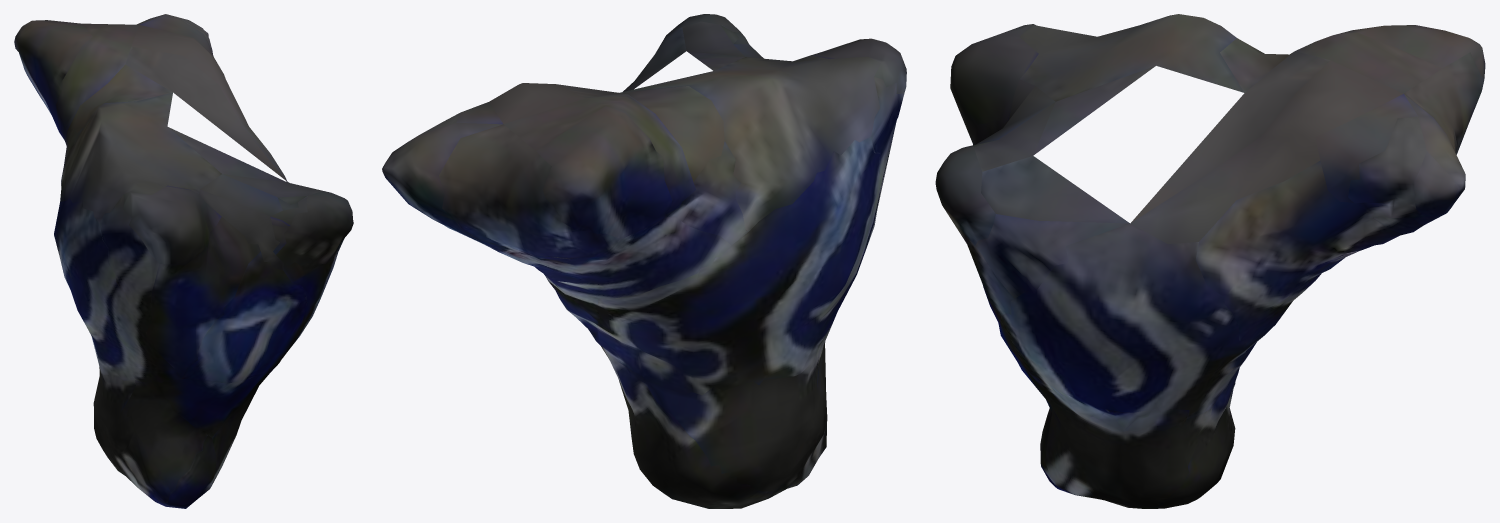
The model's file is hall.glb.
3 views of the same model, side by side, from view 1: azimuth 30°, elevation 25°; view 2: azimuth 150°, elevation 25°; view 3: azimuth 270°, elevation 25° (orthographic). The views are drawn at different scales.
Bounding box in the file's own units: 0.349 × 0.5 × 0.525.
Materials: 1 (1 with a texture image).
